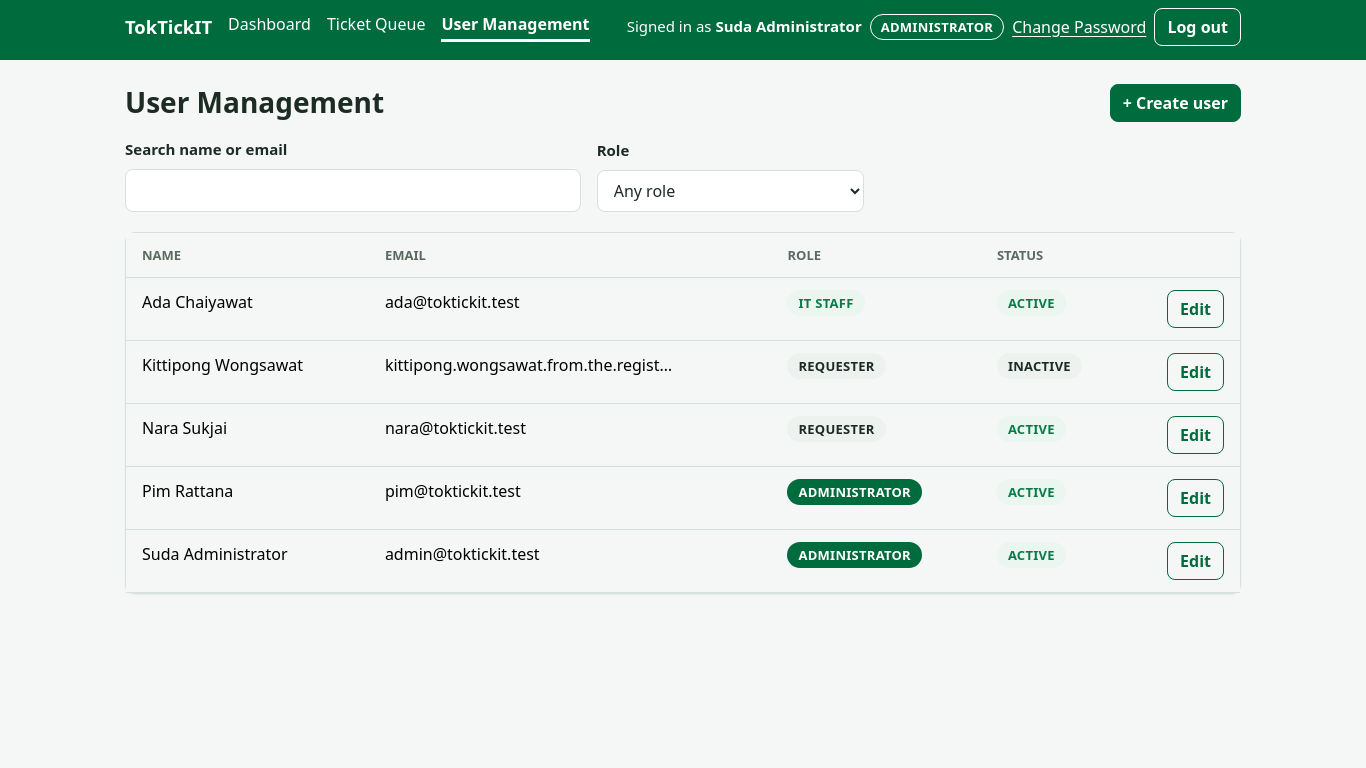
Test: UI-29 the role and activation controls (BR-22, BR-47) › offers exactly three single-choice roles and an explicit activation state, neither pre-selected on create
The width and height of the screenshot is (1366, 768).
What coordinates should you click on to do the following:
click the button "+ Create user"
I would click on:
 (1175, 103)
Its box is [1110,84,1241,122].
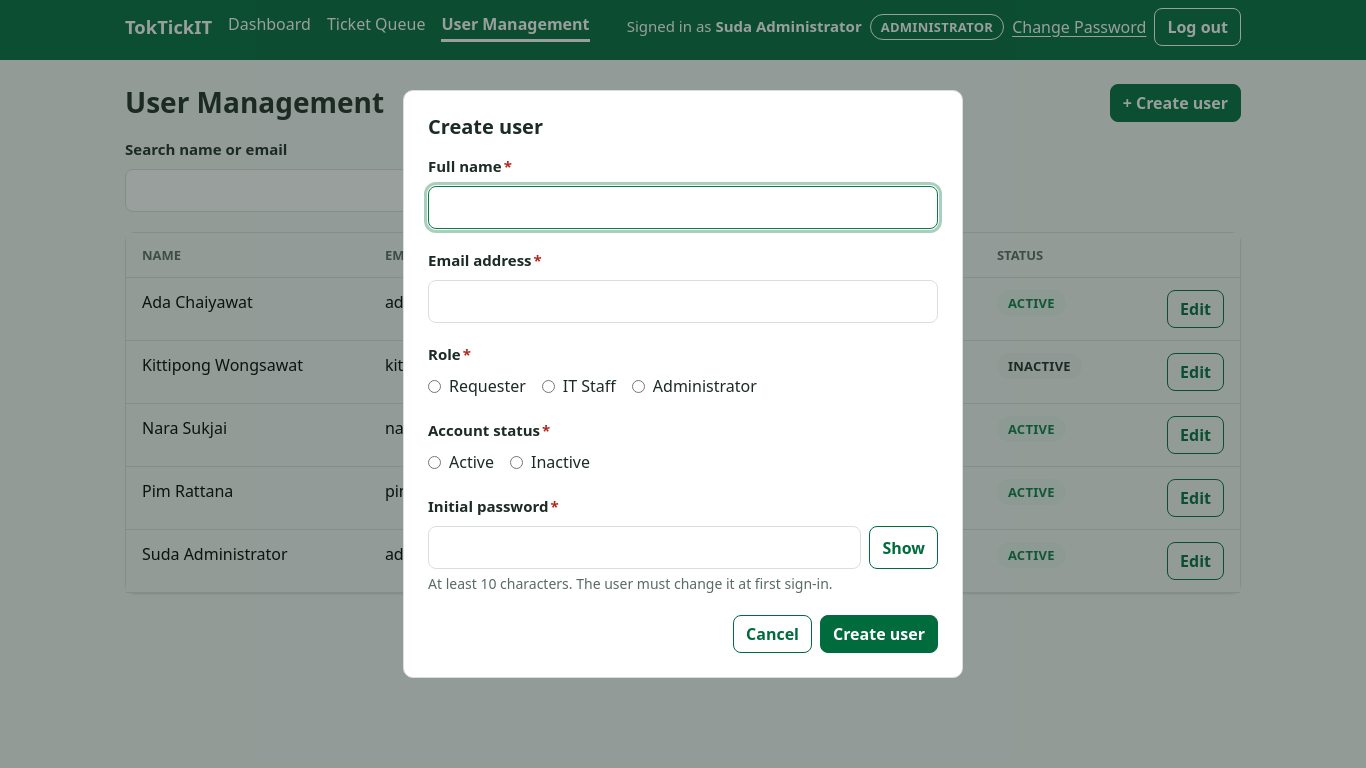
Expected: the radio button labelled "Requester" is not checked, [428,380,441,393]
Expected: the radio button labelled "IT Staff" is not checked, [542,380,555,393]
Expected: the radio button labelled "Administrator" is not checked, [632,380,645,393]
